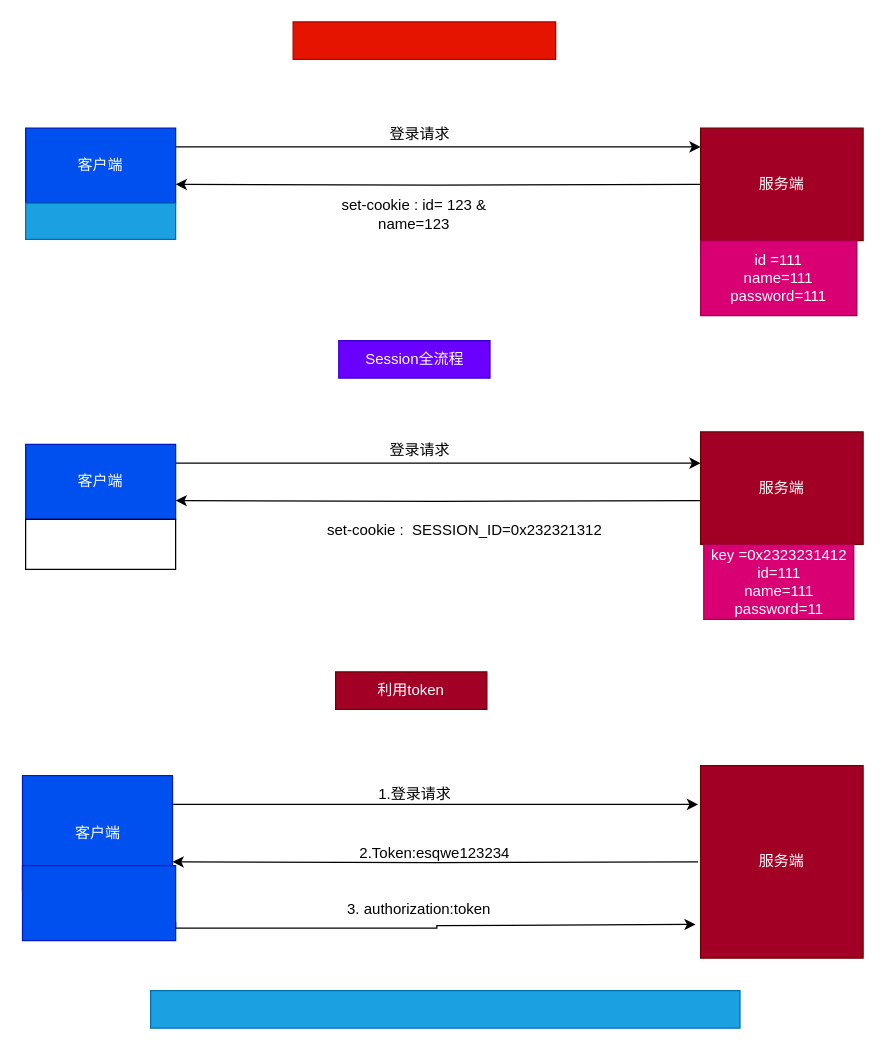
Some shapes in this 885 by 1050 pixel diagram are drawn without their labels. Each missing label, with the centre of its shape:
"Cookie:id=123 name=123" goes at (100,220).
"Cookie:SESSION_ID =0x232321312" goes at (100,543).
"JWT规范: Token: (加密算法) + (认证信息 id =112 name =1123) + (签名)" goes at (444,1008).
"普通Cookie机制(有服务器自动完成)" goes at (424,40).
"用户在前端手动将token存储在SessionStorage中" goes at (98,902).
